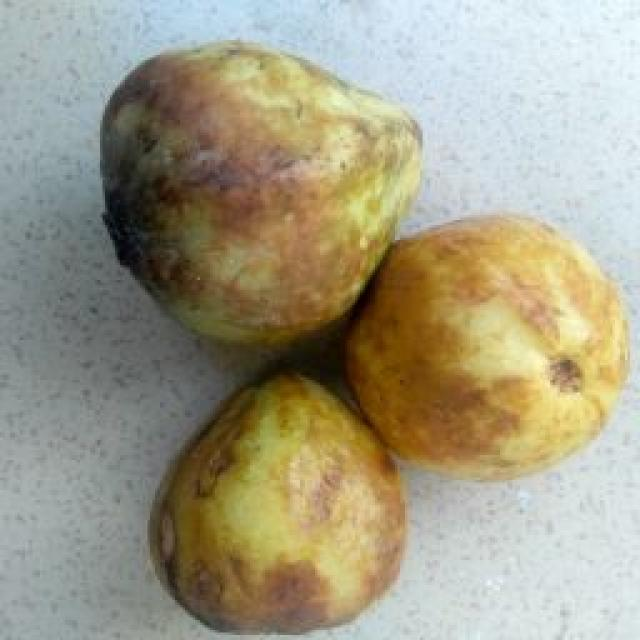Bad_Guava: (102, 42, 419, 343), (159, 374, 405, 632)
